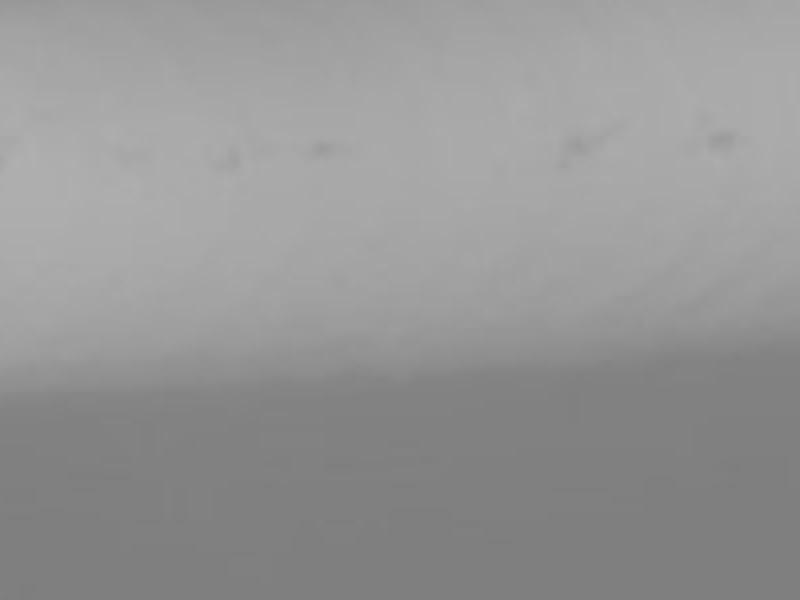defect: (558, 131, 602, 162), (206, 142, 244, 175), (302, 135, 349, 161), (110, 141, 149, 171), (700, 127, 739, 155), (690, 107, 715, 128)
